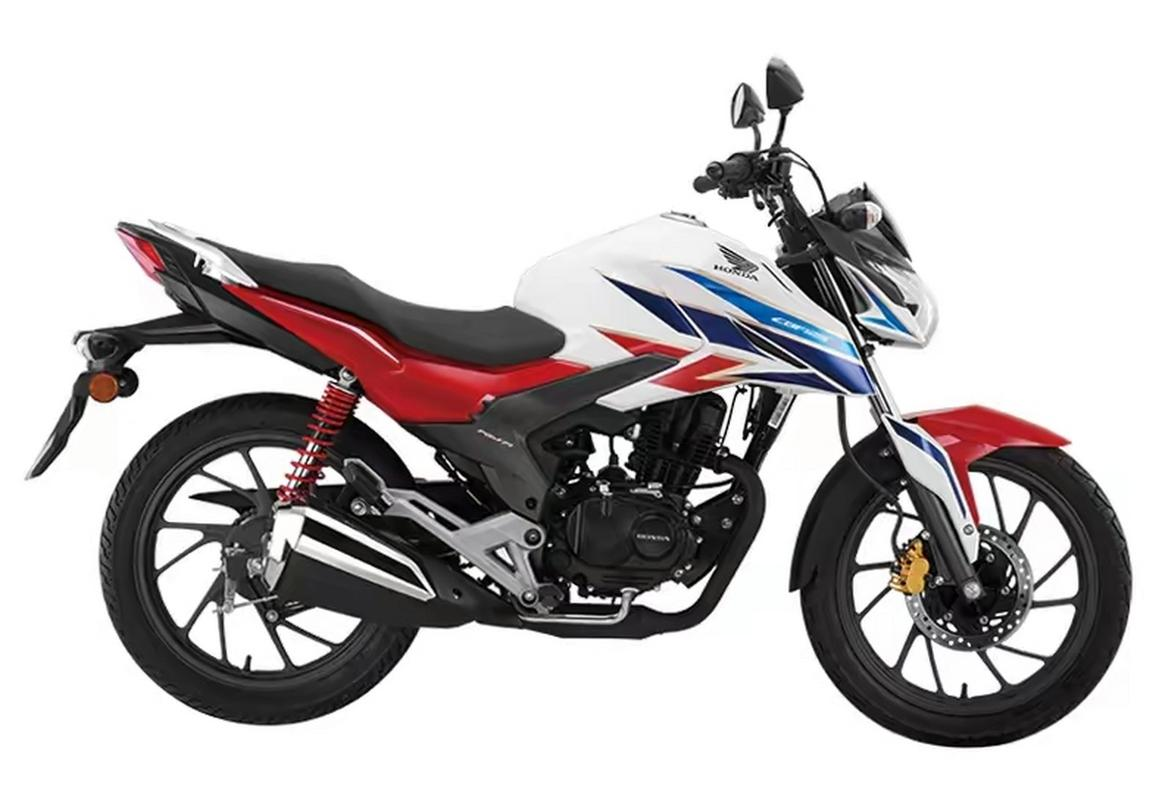摩托车: (10, 39, 1160, 755)
